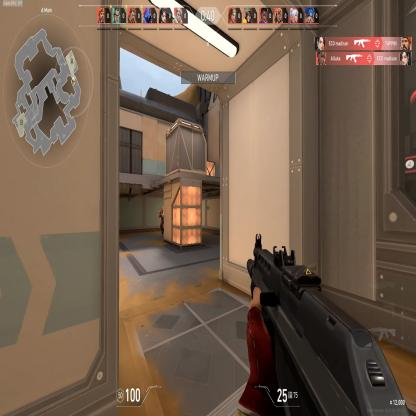enemy: (158, 206, 164, 237)
